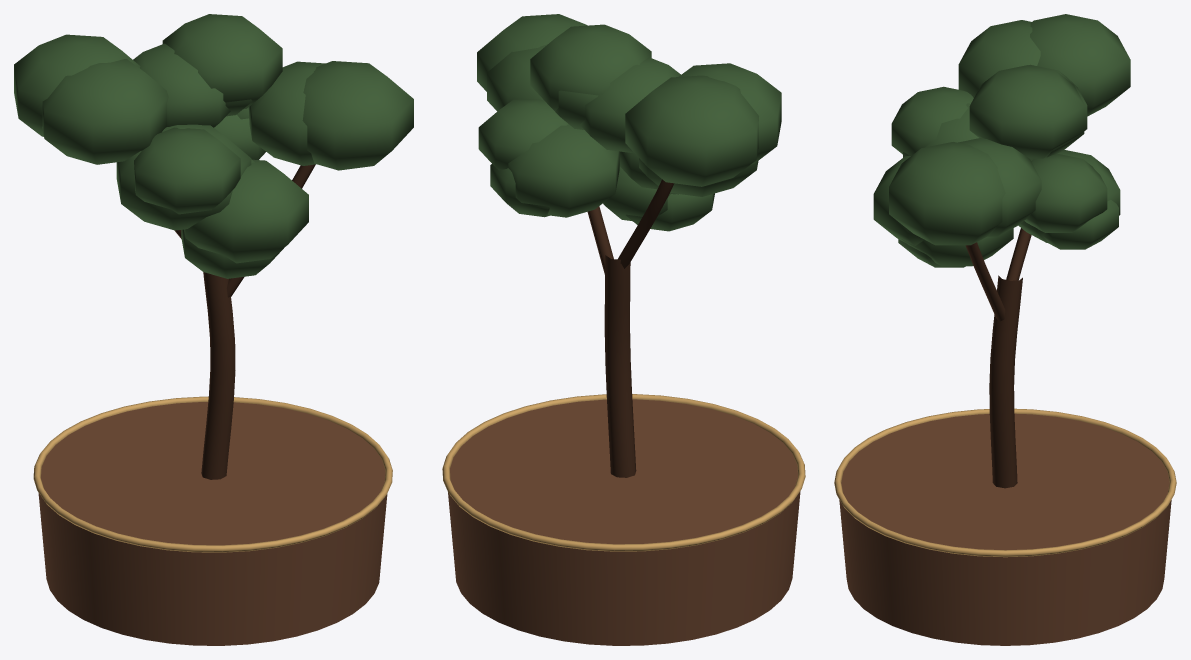
Rendered from planter_tree.glb.
The picture shows the model from 3 angles, left to right: view 1: azimuth 30°, elevation 25°; view 2: azimuth 150°, elevation 25°; view 3: azimuth 270°, elevation 25°; orthographic projection. The views are drawn at different scales.
Visible parts, largest first — view 1: Mesh_Planter, Mesh_Leaf1_2, Mesh_Leaf0_2, Mesh_Leaf5_1, Mesh_Leaf4_0, Mesh_Leaf2_2, Mesh_Rim, Mesh_Trunk, Mesh_Leaf1_0, Mesh_Leaf0_1, Mesh_Leaf2_0, Mesh_Leaf4_2 (+2 smaller); view 2: Mesh_Planter, Mesh_Leaf1_0, Mesh_Leaf3_2, Mesh_Leaf2_2, Mesh_Rim, Mesh_Trunk, Mesh_Leaf2_0, Mesh_Leaf3_0, Mesh_Leaf1_2, Mesh_Leaf0_2, Mesh_Leaf0_1, Mesh_Leaf5_0 (+7 smaller); view 3: Mesh_Planter, Mesh_Leaf0_2, Mesh_Leaf2_2, Mesh_Leaf1_0, Mesh_Rim, Mesh_Trunk, Mesh_Leaf3_0, Mesh_Leaf1_2, Mesh_Leaf4_0, Mesh_Leaf0_1, Mesh_Leaf3_1, Mesh_Leaf5_2 (+5 smaller).
Part boxes in pixels (x1,y1,x2,y2): Mesh_Planter: (38, 402, 387, 645); Mesh_Leaf1_2: (42, 59, 168, 164); Mesh_Leaf0_2: (302, 61, 413, 170); Mesh_Leaf5_1: (184, 159, 308, 263); Mesh_Leaf4_0: (134, 127, 240, 214); Mesh_Leaf2_2: (162, 14, 282, 109); Mesh_Rim: (33, 396, 392, 552); Mesh_Trunk: (201, 272, 235, 479); Mesh_Leaf1_0: (14, 34, 140, 136); Mesh_Leaf0_1: (248, 61, 325, 165); Mesh_Leaf2_0: (133, 43, 230, 127); Mesh_Leaf4_2: (116, 124, 251, 230); Mesh_Planter: (448, 399, 800, 645); Mesh_Leaf1_0: (625, 75, 758, 186); Mesh_Leaf3_2: (508, 124, 619, 217); Mesh_Leaf2_2: (530, 24, 651, 110); Mesh_Rim: (442, 394, 805, 551); Mesh_Trunk: (604, 255, 636, 477); Mesh_Leaf2_0: (580, 57, 680, 153); Mesh_Leaf3_0: (478, 99, 568, 170); Mesh_Leaf1_2: (678, 63, 781, 164); Mesh_Leaf0_2: (477, 14, 587, 91); Mesh_Leaf0_1: (487, 44, 547, 111); Mesh_Leaf5_0: (626, 193, 714, 231); Mesh_Planter: (839, 413, 1171, 645); Mesh_Leaf0_2: (889, 142, 1005, 245); Mesh_Leaf2_2: (969, 65, 1085, 158); Mesh_Leaf1_0: (1030, 14, 1130, 116); Mesh_Rim: (834, 408, 1176, 557); Mesh_Trunk: (989, 275, 1022, 488); Mesh_Leaf3_0: (1024, 154, 1107, 232); Mesh_Leaf1_2: (958, 20, 1040, 97); Mesh_Leaf4_0: (891, 86, 973, 155); Mesh_Leaf0_1: (958, 138, 1041, 236); Mesh_Leaf3_1: (1042, 200, 1118, 249); Mesh_Leaf5_2: (901, 228, 1013, 266).
Size of the model in its own units: 2 by 3.22 by 1.94.
